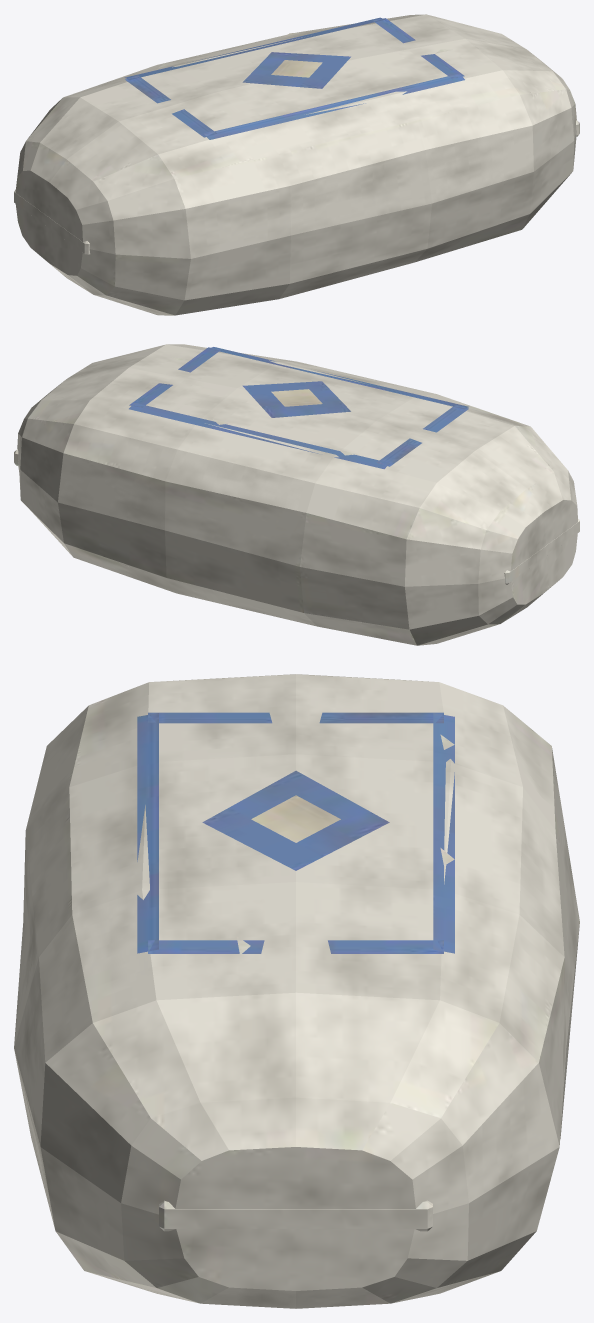
The model's file is D20_cement_bags_v1.glb.
3 renders of one model, top to bottom at view 1: azimuth 30°, elevation 25°; view 2: azimuth 150°, elevation 25°; view 3: azimuth 270°, elevation 25°, orthographic. The views are drawn at different scales.
Parts seen in each view (by area): view 1: Filled creased cement sack; view 2: Filled creased cement sack; view 3: Filled creased cement sack.
Boxes of the visible parts, x1=… form: Filled creased cement sack: x1=14, y1=14, x2=579, y2=315; Filled creased cement sack: x1=14, y1=344, x2=579, y2=645; Filled creased cement sack: x1=14, y1=674, x2=579, y2=1308.
Size of the model in its own units: 0.6 by 0.2131 by 0.3189.
4 materials, 4 textured.
